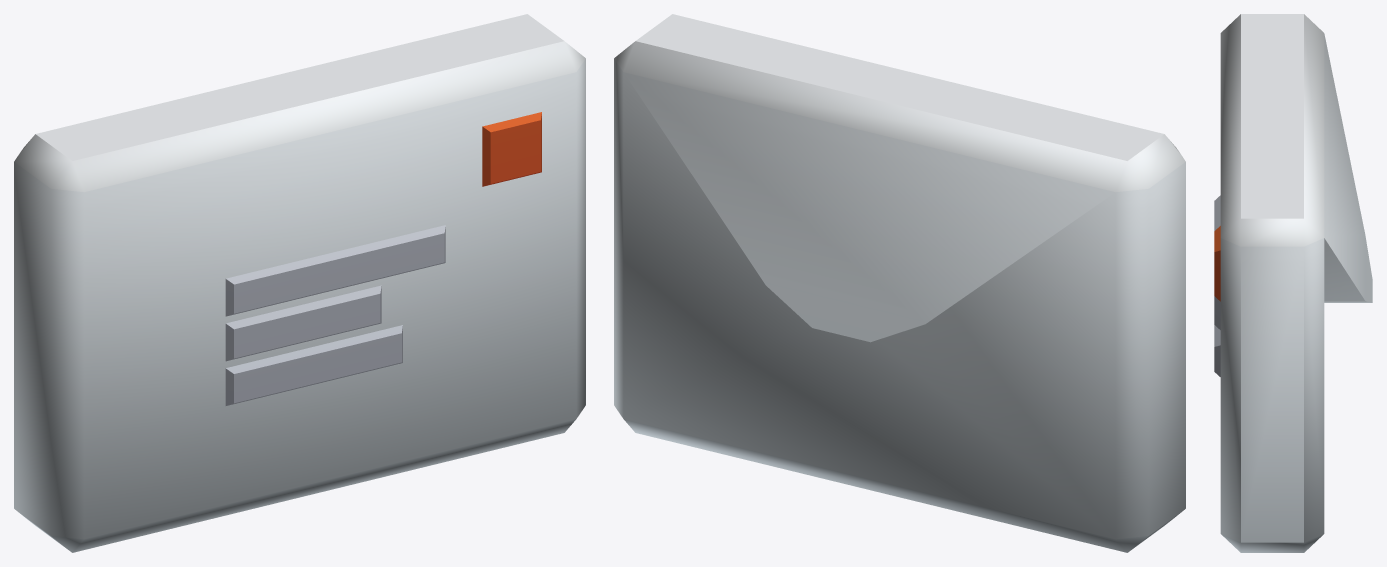
The model's file is Letter.glb.
3 views of the same model, side by side, from view 1: azimuth 30°, elevation 25°; view 2: azimuth 150°, elevation 25°; view 3: azimuth 270°, elevation 25° (orthographic). The views are drawn at different scales.
Visible parts, largest first — view 1: letter; view 2: letter; view 3: letter.
Boxes of the visible parts, box(x1,y1,x2,y2) form: letter: box(14, 14, 585, 552); letter: box(614, 14, 1185, 552); letter: box(1214, 14, 1372, 552).
Size of the model in its own units: 0.5 by 0.35 by 0.15.
Materials: 1 (1 with a texture image).
